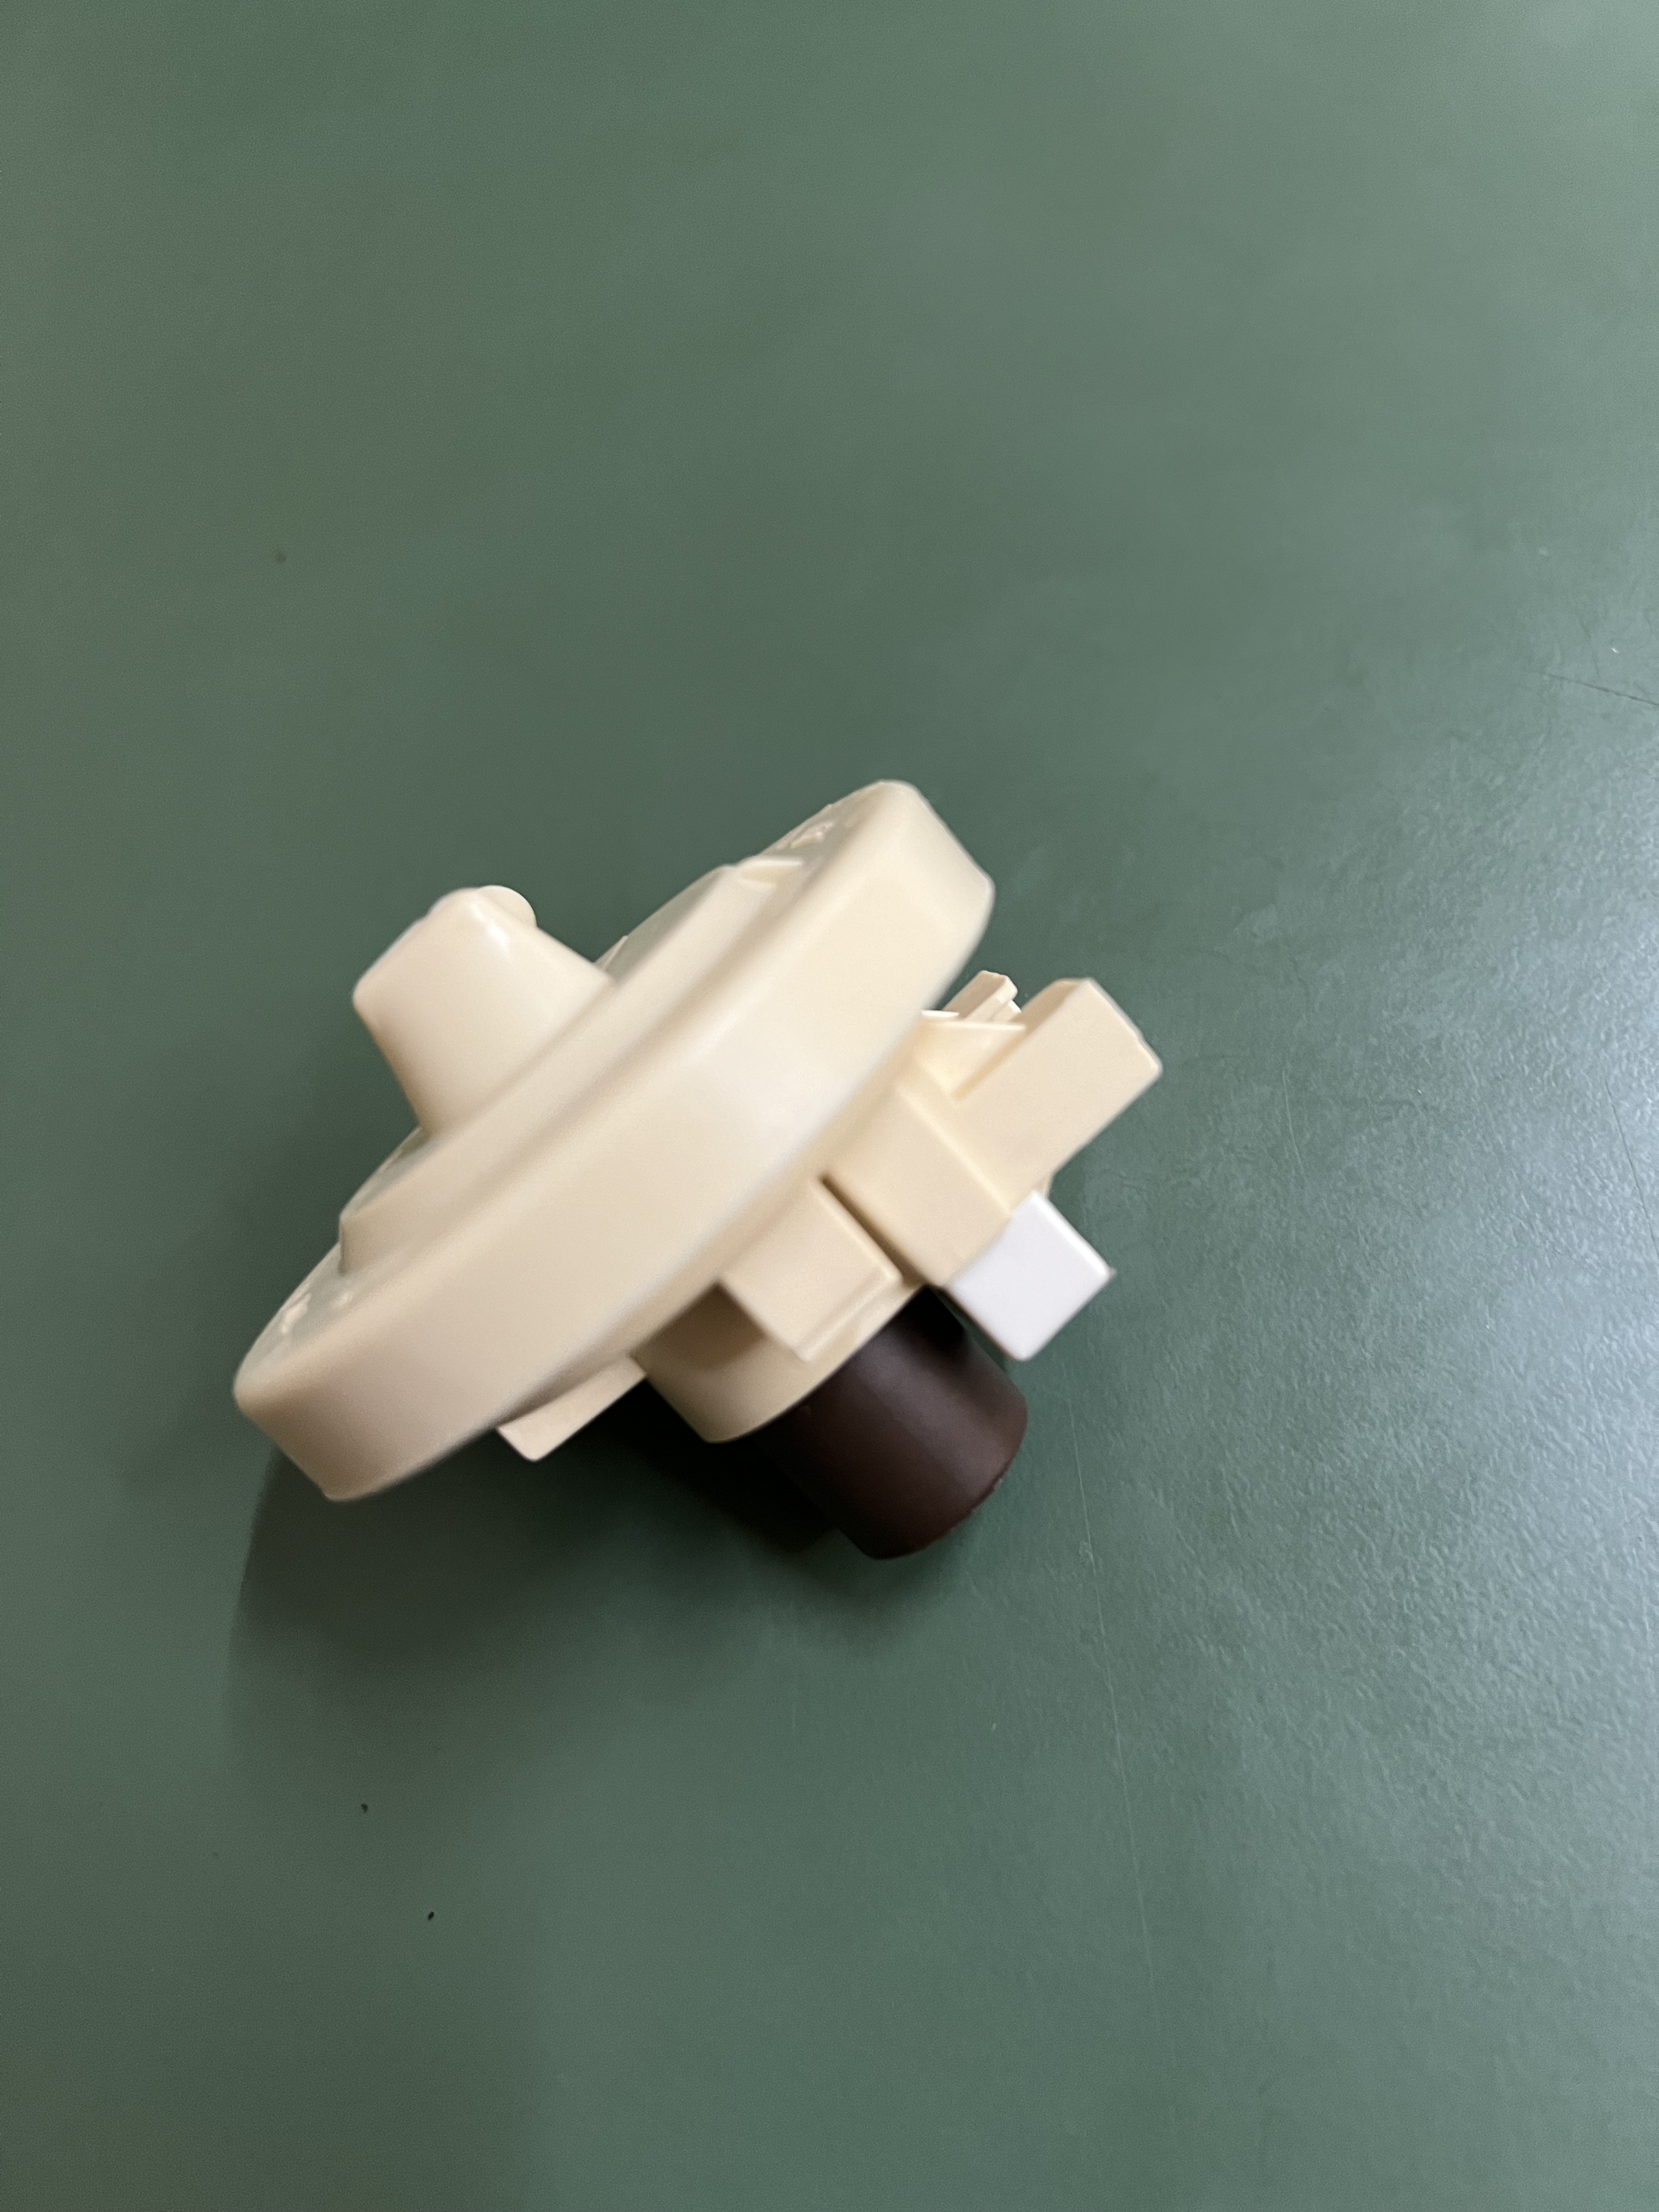pressure_sensor: (235, 765, 1164, 1547)
